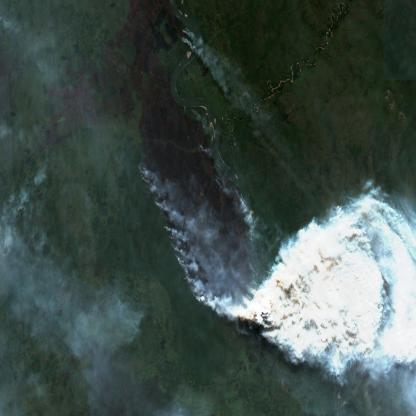fire: (133, 137, 285, 333)
